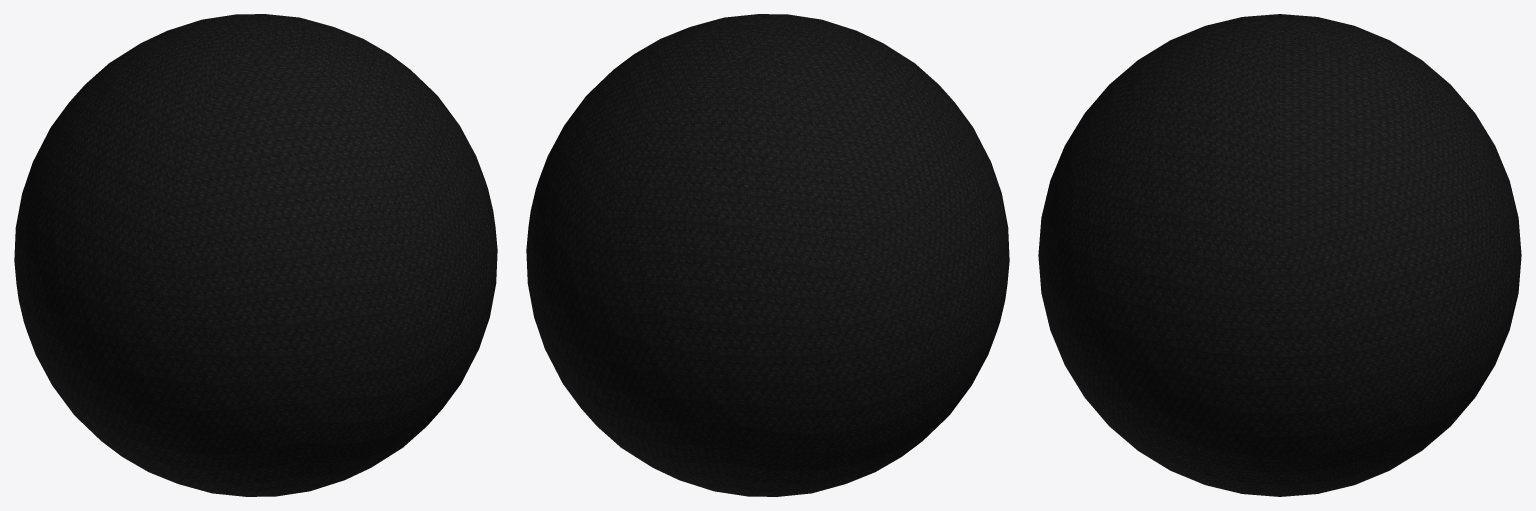
File: canon.obj
3 renders of one model, left to right at view 1: azimuth 30°, elevation 25°; view 2: azimuth 150°, elevation 25°; view 3: azimuth 270°, elevation 25°, orthographic.
Size of the model in its own units: 0.504 by 0.504 by 0.504.
